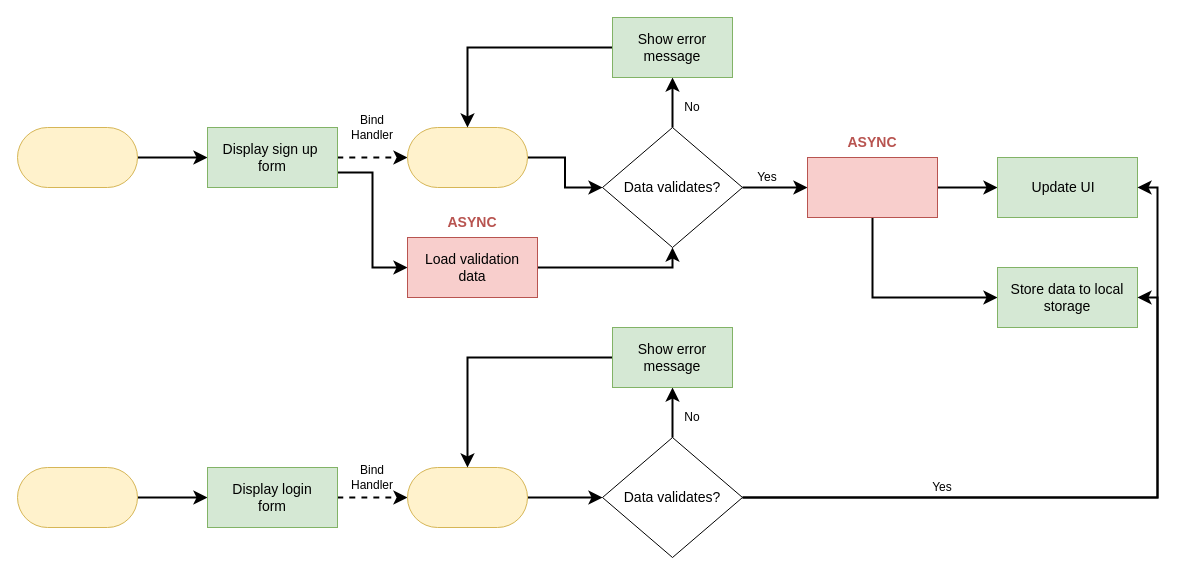
Image size: 1186x575. Some labels were removed from this diagram. The centre of each missing label's shape, as x and y in pixels:
Upload user data: point 872,187
User clicks on log in: point 77,497
User clicks on sign up: point 77,157
User enters credentials: point 467,497
User fills out his data: point 467,157
